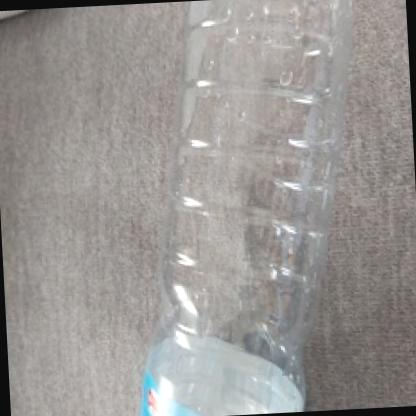plastic_bottles: (110, 0, 384, 416)
